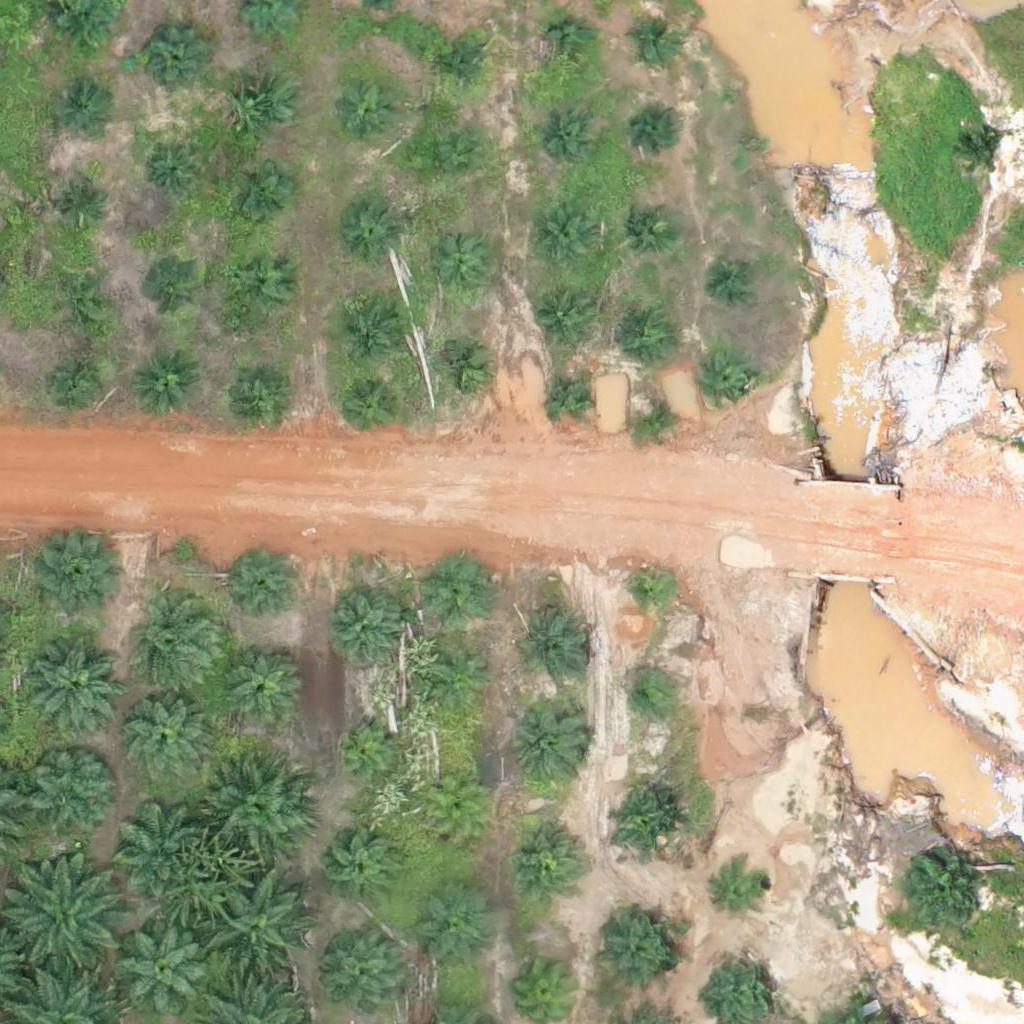Kelapa_Sawit: (3, 862, 128, 987), (211, 882, 311, 983), (205, 759, 305, 859), (127, 595, 227, 695), (22, 628, 122, 728), (597, 912, 685, 1000), (122, 929, 210, 1017), (28, 745, 116, 833), (36, 529, 124, 617), (321, 931, 408, 1020), (125, 695, 212, 784), (899, 851, 986, 939), (113, 802, 200, 890), (324, 584, 411, 672), (219, 641, 306, 729), (514, 606, 589, 682), (224, 551, 299, 627), (605, 787, 680, 863), (514, 703, 589, 779), (322, 830, 397, 905), (419, 894, 494, 969), (506, 821, 581, 896), (418, 133, 481, 196), (533, 109, 596, 172), (145, 26, 208, 89), (132, 353, 195, 416), (531, 206, 594, 269), (228, 251, 291, 314), (226, 358, 289, 421), (142, 258, 205, 321), (338, 375, 401, 438), (427, 556, 490, 619), (618, 302, 681, 365), (532, 287, 595, 350), (423, 778, 486, 841), (229, 165, 291, 228), (340, 80, 402, 143), (342, 297, 404, 360), (54, 271, 116, 334), (339, 201, 401, 264), (433, 652, 495, 715), (428, 239, 490, 302), (433, 337, 495, 400), (618, 197, 680, 260), (712, 859, 774, 922), (235, 78, 297, 141), (49, 353, 111, 415), (332, 718, 394, 780), (545, 372, 595, 423), (631, 393, 681, 444), (54, 91, 104, 141), (62, 184, 112, 234), (145, 147, 195, 197), (634, 108, 684, 158), (544, 19, 594, 69), (630, 18, 680, 68), (702, 359, 752, 409), (712, 254, 762, 304), (624, 567, 674, 617), (620, 674, 670, 724), (955, 128, 1005, 178), (438, 43, 488, 93)
